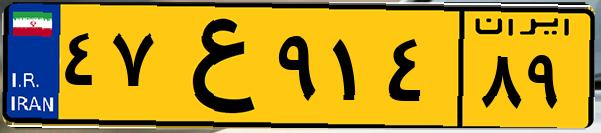1: (330, 28, 385, 110)
4: (385, 28, 445, 110), (57, 26, 110, 100)
7: (110, 28, 158, 98)
8: (475, 38, 525, 113)
9: (270, 28, 330, 110), (525, 38, 570, 115)
ع: (158, 12, 270, 120)
